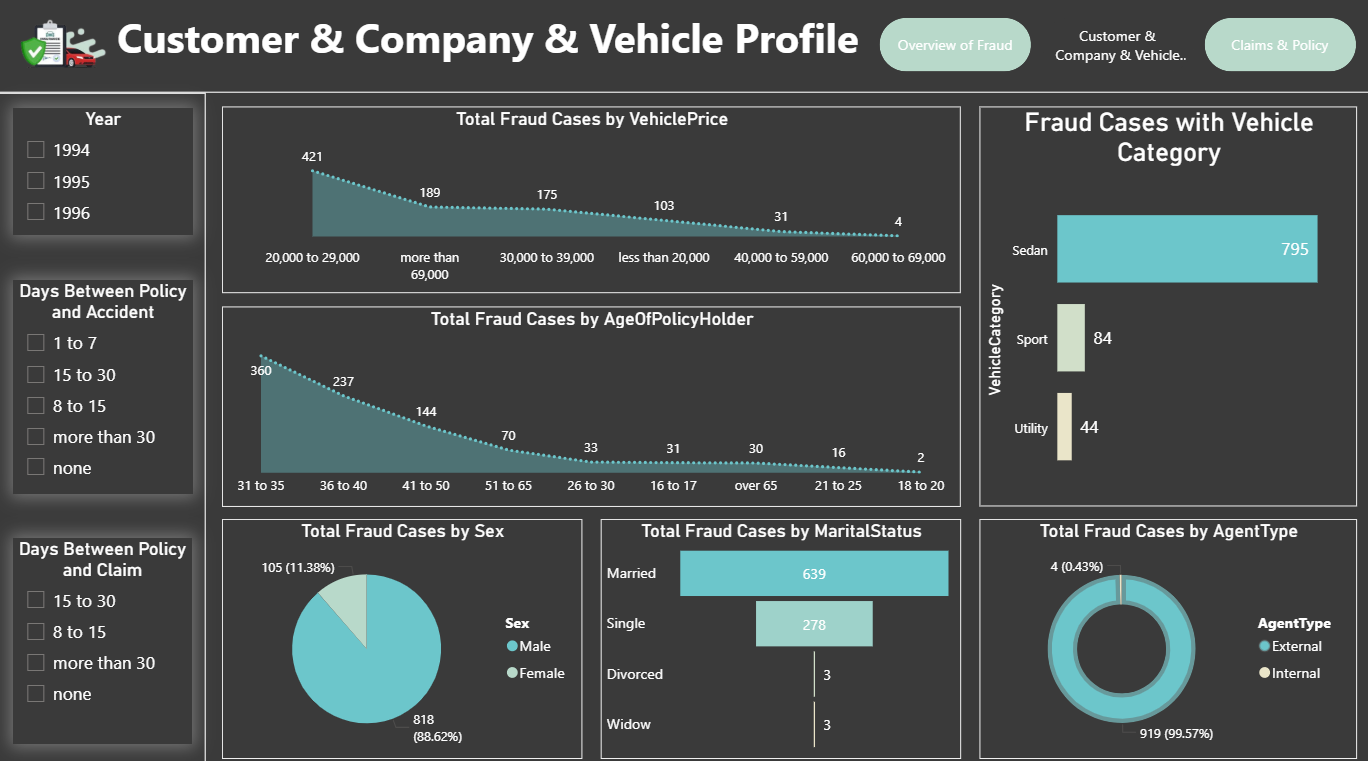

The page's visual inventory and layout, read from the dashboard file:
{"tool":"powerbi","page":{"name":"Customer & Company & Vehicle Profile","canvas":[1280,720],"ordinal":1},"visuals":[{"type":"shape","box":[0,0,1280.2,91.9],"z":0},{"type":"shape","box":[0,91.9,194.2,627.9],"z":1000},{"type":"textbox","box":[107,10.5,701.2,74.4],"z":2000},{"type":"image","box":[0,2.3,119.8,89.5],"z":3000},{"type":"lineChart","fields":{"Y":["'Measures'.Total Fraud Cases"],"Category":["Client Dim.AgeOfPolicyHolder"]},"box":[209.3,290.7,687.2,186],"z":4000},{"type":"pieChart","fields":{"Y":["'Measures'.Total Fraud Cases"],"Category":["Client Dim.Sex"]},"box":[209.3,488.4,334.9,223.3],"z":5000},{"type":"funnel","fields":{"Category":["Client Dim.MaritalStatus"],"Y":["Measure.Total Fraud Cases"]},"box":[561.6,488.4,334.9,223.3],"z":6000},{"type":"donutChart","fields":{"Y":["'Measures'.Total Fraud Cases"],"Category":["Company Dim.AgentType"]},"box":[914,488.4,351.2,223.3],"z":7000},{"type":"barChart","title":"Fraud Cases with Vehicle  Category ","fields":{"Category":["Vehicle Dim.VehicleCategory"],"Y":["Measure.Total Fraud Cases"]},"box":[914,104.7,351.2,372.1],"z":8000},{"type":"lineChart","fields":{"Y":["'Measures'.Total Fraud Cases"],"Category":["Vehicle Dim.VehiclePrice"]},"box":[209.3,104.7,687.2,173.3],"z":9000},{"type":"pageNavigator","box":[820.9,22.1,444.2,50],"z":10000},{"type":"slicer","title":"Year","fields":{"Values":["Date Dim.Year"]},"box":[14.7,105.8,167.4,118.6],"z":11000},{"type":"slicer","title":"Days Between Policy and Accident ","fields":{"Values":["Policy Dim.Days:Policy-Accident"]},"box":[14.7,265.7,167.4,198.8],"z":12000},{"type":"slicer","title":"Days Between Policy and Claim","fields":{"Values":["Policy Dim.Days:Policy-Claim"]},"box":[15.3,505.8,166.3,191.9],"z":13000}]}

Visuals, with their boxes in screenshot pixels (x1, y1, x2, y2), scaled from the page's 1280x720 canvas onto the 1368x761 screenshot:
shape: {"left": 0, "top": 0, "right": 1367, "bottom": 97}
shape: {"left": 0, "top": 97, "right": 208, "bottom": 760}
textbox: {"left": 114, "top": 11, "right": 864, "bottom": 90}
image: {"left": 0, "top": 2, "right": 128, "bottom": 97}
lineChart - 'Measures'.Total Fraud Cases x Client Dim.AgeOfPolicyHolder: {"left": 224, "top": 307, "right": 958, "bottom": 504}
pieChart - 'Measures'.Total Fraud Cases x Client Dim.Sex: {"left": 224, "top": 516, "right": 582, "bottom": 752}
funnel - Client Dim.MaritalStatus x Measure.Total Fraud Cases: {"left": 600, "top": 516, "right": 958, "bottom": 752}
donutChart - 'Measures'.Total Fraud Cases x Company Dim.AgentType: {"left": 977, "top": 516, "right": 1352, "bottom": 752}
"Fraud Cases with Vehicle  Category " barChart: {"left": 977, "top": 111, "right": 1352, "bottom": 504}
lineChart - 'Measures'.Total Fraud Cases x Vehicle Dim.VehiclePrice: {"left": 224, "top": 111, "right": 958, "bottom": 294}
pageNavigator: {"left": 877, "top": 23, "right": 1352, "bottom": 76}
"Year" slicer: {"left": 16, "top": 112, "right": 195, "bottom": 237}
"Days Between Policy and Accident " slicer: {"left": 16, "top": 281, "right": 195, "bottom": 491}
"Days Between Policy and Claim" slicer: {"left": 16, "top": 535, "right": 194, "bottom": 737}
